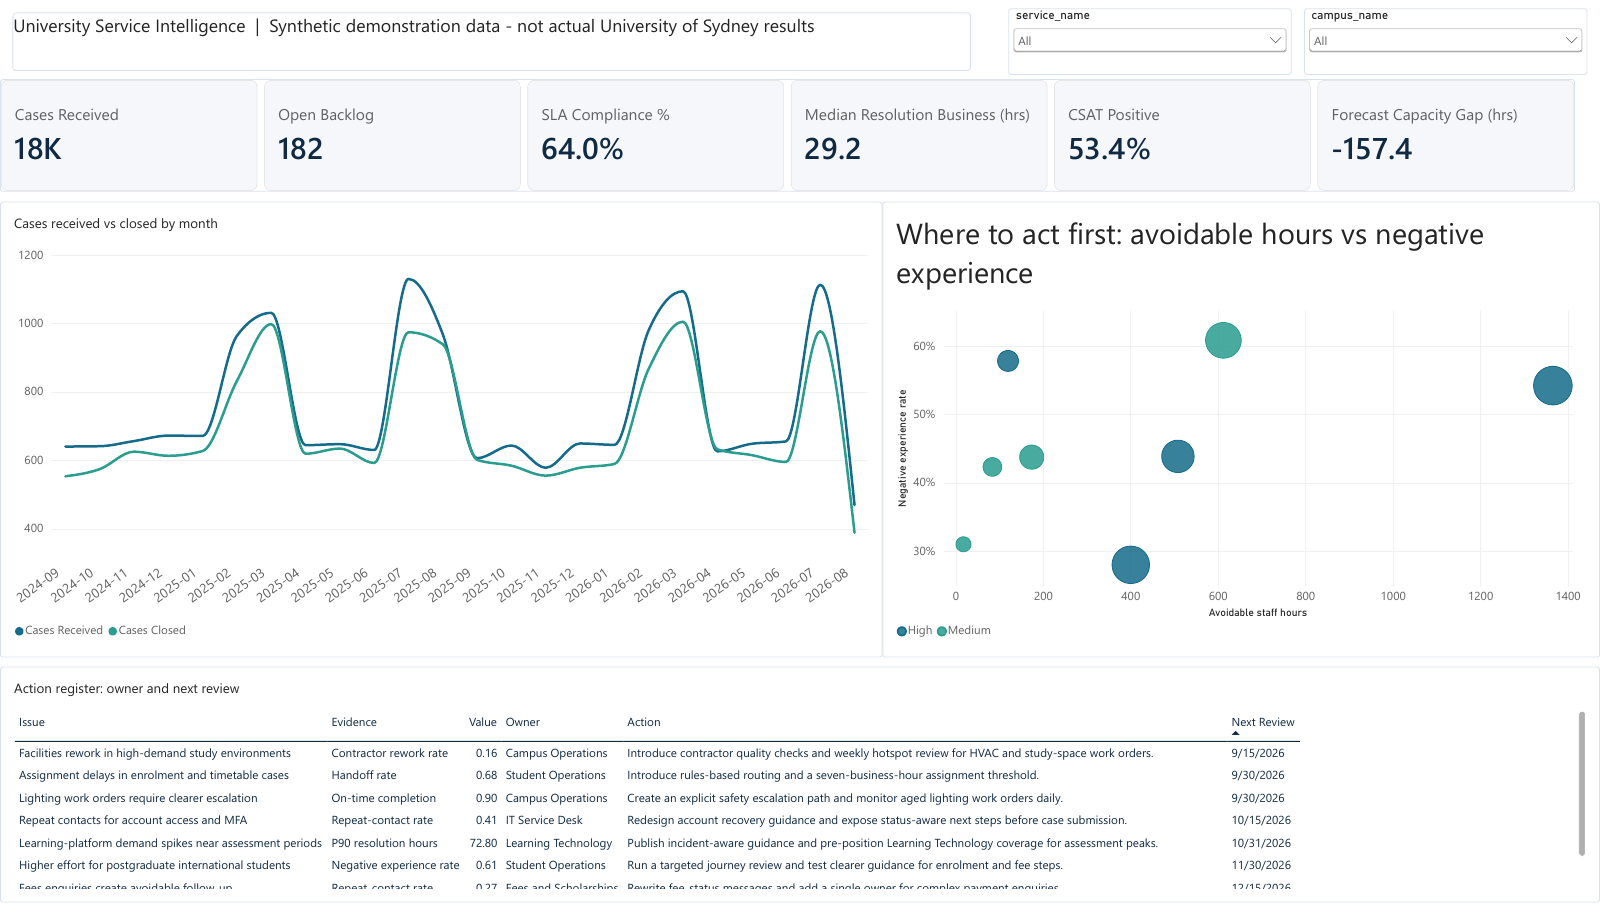

The dashboard page shown, as its layout file describes it:
{"tool":"powerbi","page":{"name":"Executive Operational Health","canvas":[1920,1080],"ordinal":0},"visuals":[{"type":"cardVisual","fields":{"Data":["_Measures.Cases Received","_Measures.Open Backlog As Of","_Measures.SLA Compliance %","_Measures.Median Resolution Business Hours","_Measures.Display CSAT %","_Measures.Forecast Capacity Gap Hours"]},"box":[0,90,1890,135],"z":0},{"type":"lineChart","title":"Cases received vs closed by month","fields":{"Category":["DimDate.year_month"],"Y":["_Measures.Cases Received","_Measures.Cases Closed"]},"box":[0,236.6,1058.9,546.9],"z":1000},{"type":"scatterChart","title":"Where to act first: avoidable hours vs negative experience","fields":{"X":["_Measures.Estimated Avoidable Staff Hours"],"Y":["Sum(FactActionInsight.negative_experience_rate)"],"Series":["FactActionInsight.priority"],"Category":["FactActionInsight.issue"],"Size":["Sum(FactActionInsight.users_affected)"]},"box":[1058.9,236.6,861.1,546.9],"z":2000},{"type":"tableEx","title":"Action register: owner and next review","fields":{"Values":["FactActionInsight.issue","FactActionInsight.evidence_1_name","FactActionInsight.evidence_1_value","DimTeam.team_name","FactActionInsight.recommended_action","FactActionInsight.next_review_date"]},"box":[0,795.2,1920,283.2],"z":3000},{"type":"textbox","box":[15,10,1150,70],"z":3001},{"type":"slicer","fields":{"Values":["DimService.service_name"]},"box":[1210,5,340,80],"z":3002},{"type":"slicer","fields":{"Values":["DimCampus.campus_name"]},"box":[1565,5,340,80],"z":3003}]}

Visuals, with their boxes in screenshot pixels (x1, y1, x2, y2), scaled from the page's 1920x1080 canvas onto the 1600x909 screenshot:
cardVisual - _Measures.Cases Received x _Measures.Open Backlog As Of: bbox=[0, 76, 1575, 189]
"Cases received vs closed by month" lineChart: bbox=[0, 199, 882, 659]
"Where to act first: avoidable hours vs negative experience" scatterChart: bbox=[882, 199, 1599, 659]
"Action register: owner and next review" tableEx: bbox=[0, 669, 1599, 908]
textbox: bbox=[12, 8, 971, 67]
slicer - DimService.service_name: bbox=[1008, 4, 1292, 72]
slicer - DimCampus.campus_name: bbox=[1304, 4, 1588, 72]
